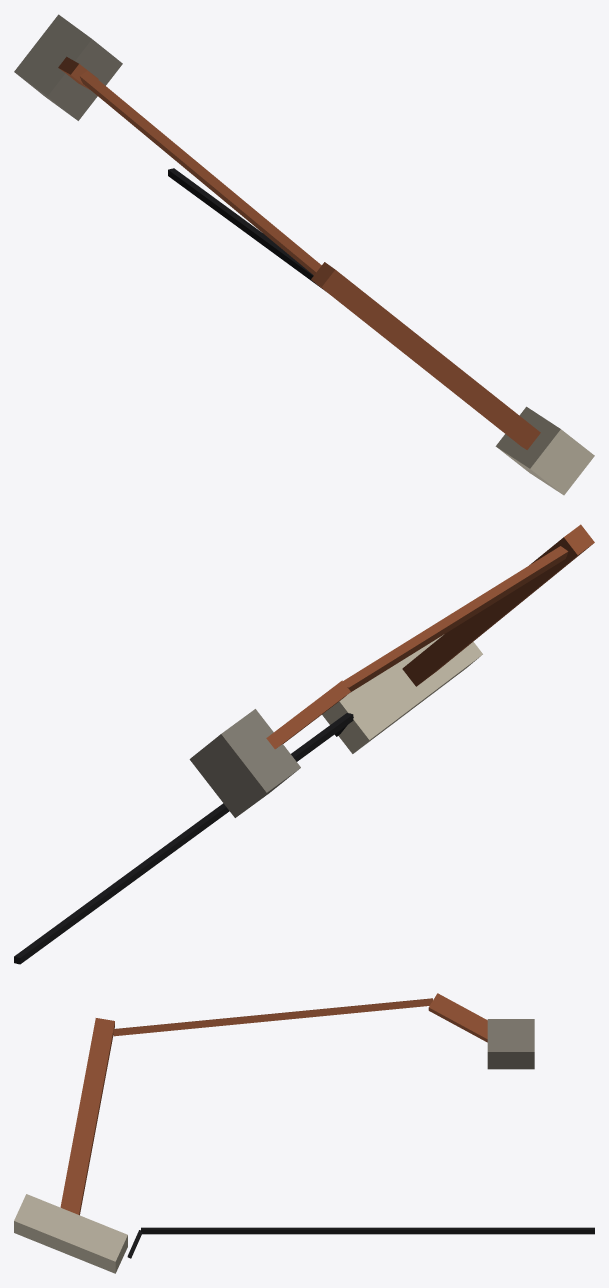
3 views of the same model, one above another, from view 1: azimuth 30°, elevation 25°; view 2: azimuth 150°, elevation 25°; view 3: azimuth 270°, elevation 25° (orthographic). The views are drawn at different scales.
Parts seen in each view (by area): view 1: t00_g29_p4; view 2: t00_g29_p4; view 3: t00_g29_p4.
Part boxes in pixels (x1,y1,x2,y2): t00_g29_p4: (14,14,594,495); t00_g29_p4: (14,524,594,964); t00_g29_p4: (14,993,594,1273).
Bounding box in the file's own units: 10.7 × 11.6 × 29.69.
